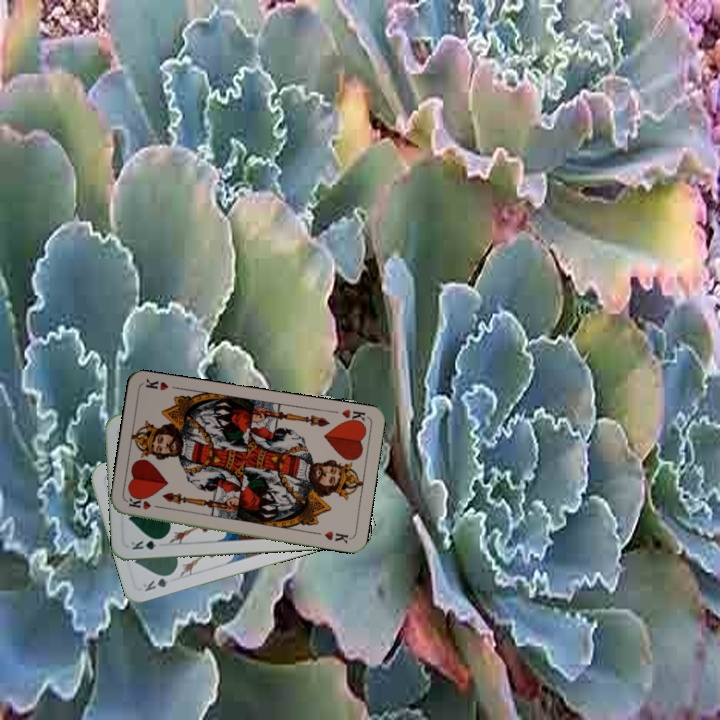GK: (138, 569, 176, 594), (127, 535, 166, 552)
HK: (125, 494, 165, 512), (337, 405, 368, 428)
